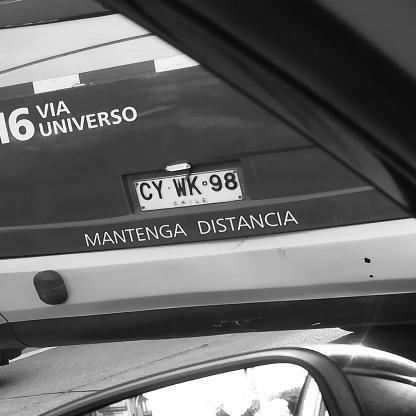Patente: (130, 165, 247, 216)
